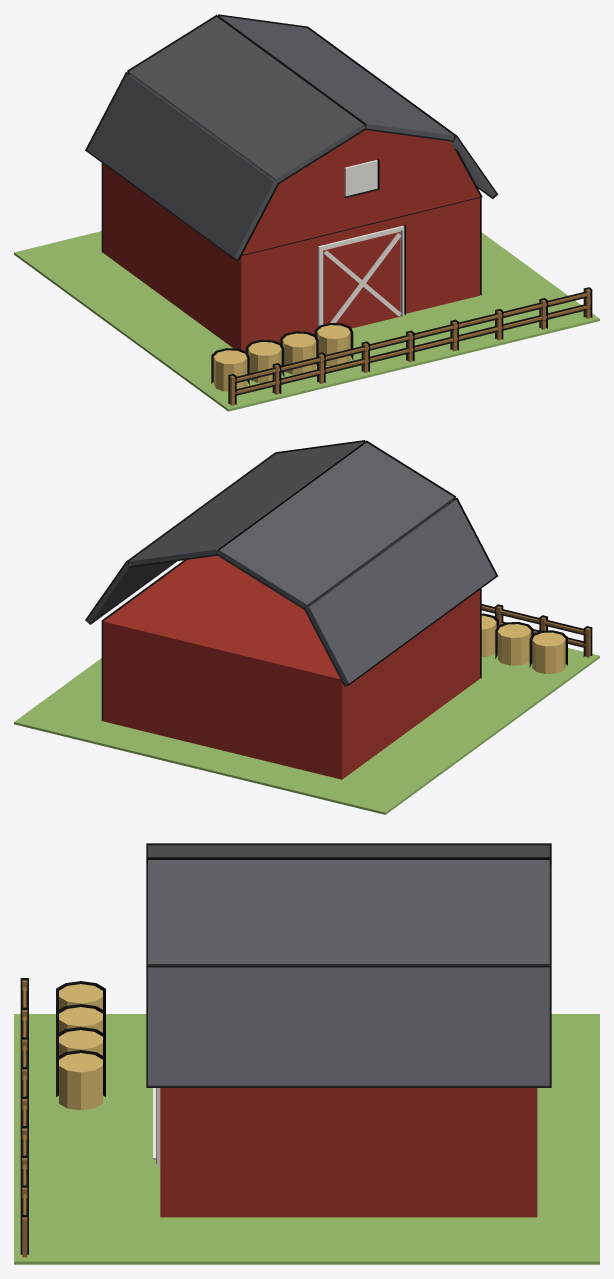
The model's file is Sanayi_ahir_1.fbx.
3 renders of one model, top to bottom at view 1: azimuth 30°, elevation 25°; view 2: azimuth 150°, elevation 25°; view 3: azimuth 270°, elevation 25°, orthographic. The views are drawn at different scales.
Parts seen in each view (by area): view 1: Sanayi_ahir_1; view 2: Sanayi_ahir_1; view 3: Sanayi_ahir_1.
Part boxes in pixels (bbox=[...]): Sanayi_ahir_1: bbox=[14, 14, 599, 411]; Sanayi_ahir_1: bbox=[14, 440, 599, 814]; Sanayi_ahir_1: bbox=[14, 843, 599, 1264].
Bounding box in the file's own units: 14 × 7.48 × 14.
